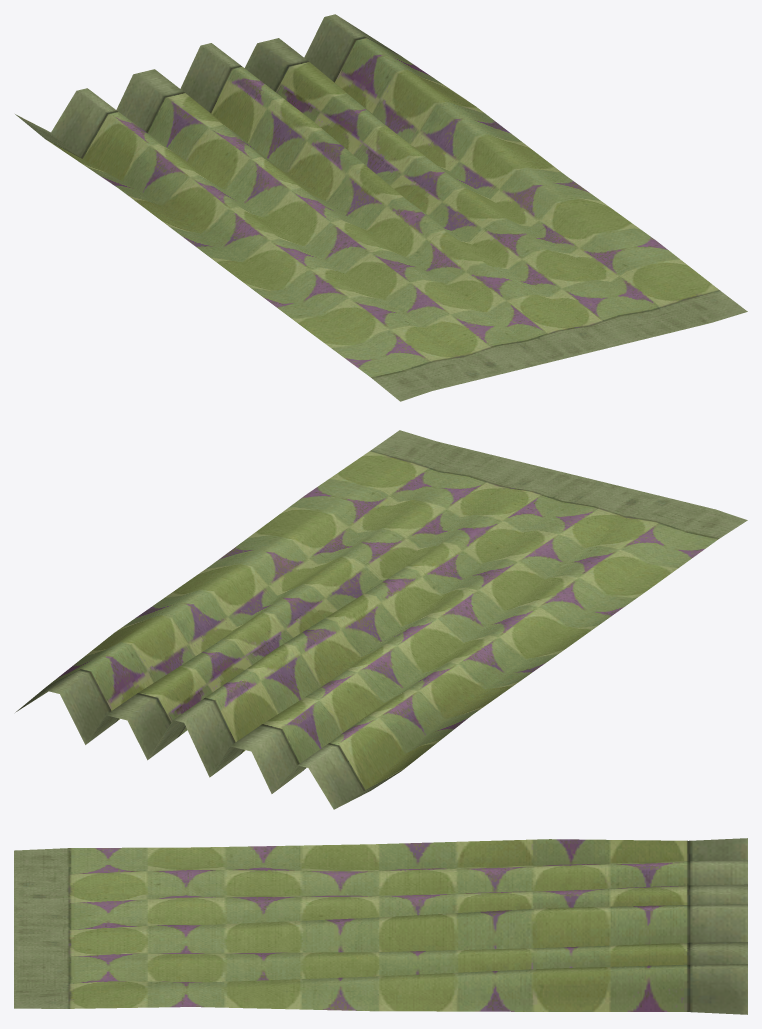
The model's file is nt_2020_curtains_short_03_LOD0.obj.
3 renders of one model, top to bottom at view 1: azimuth 30°, elevation 25°; view 2: azimuth 150°, elevation 25°; view 3: azimuth 270°, elevation 25°, orthographic. The views are drawn at different scales.
Parts seen in each view (by area): view 1: mtl_nt_2020_curtains_01b; view 2: mtl_nt_2020_curtains_01b; view 3: mtl_nt_2020_curtains_01b.
Boxes of the visible parts, <box> form: mtl_nt_2020_curtains_01b: <box>15,14,747,401</box>; mtl_nt_2020_curtains_01b: <box>15,430,747,809</box>; mtl_nt_2020_curtains_01b: <box>14,838,747,1014</box>.
Bounding box in the file's own units: 171 × 24.63 × 315.
